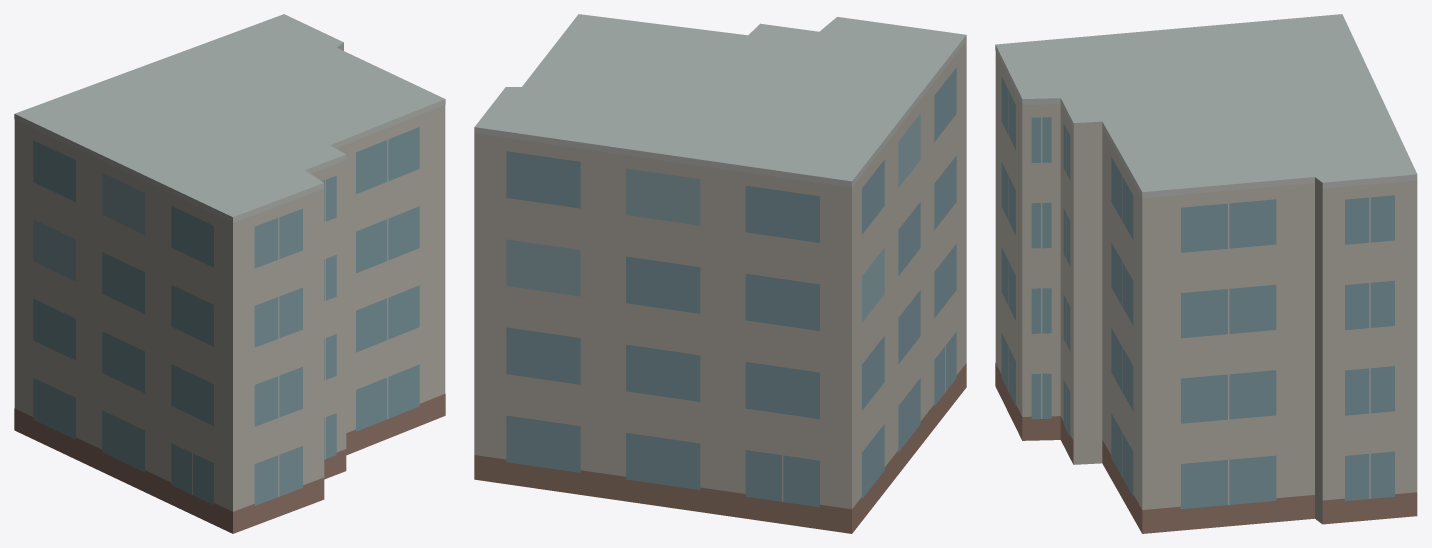
File: survey-upis-32608211.glb
3 renders of one model, left to right at view 1: azimuth 30°, elevation 25°; view 2: azimuth 150°, elevation 25°; view 3: azimuth 270°, elevation 25°, orthographic. The views are drawn at different scales.
Visible parts, largest first — view 1: survey-upis-32608211.tmp; view 2: survey-upis-32608211.tmp; view 3: survey-upis-32608211.tmp.
Part boxes in pixels (<box>): survey-upis-32608211.tmp: <box>14,14,445,533</box>; survey-upis-32608211.tmp: <box>474,14,966,533</box>; survey-upis-32608211.tmp: <box>995,14,1417,533</box>.
Bounding box in the file's own units: 15.55 × 13.9 × 15.57.
